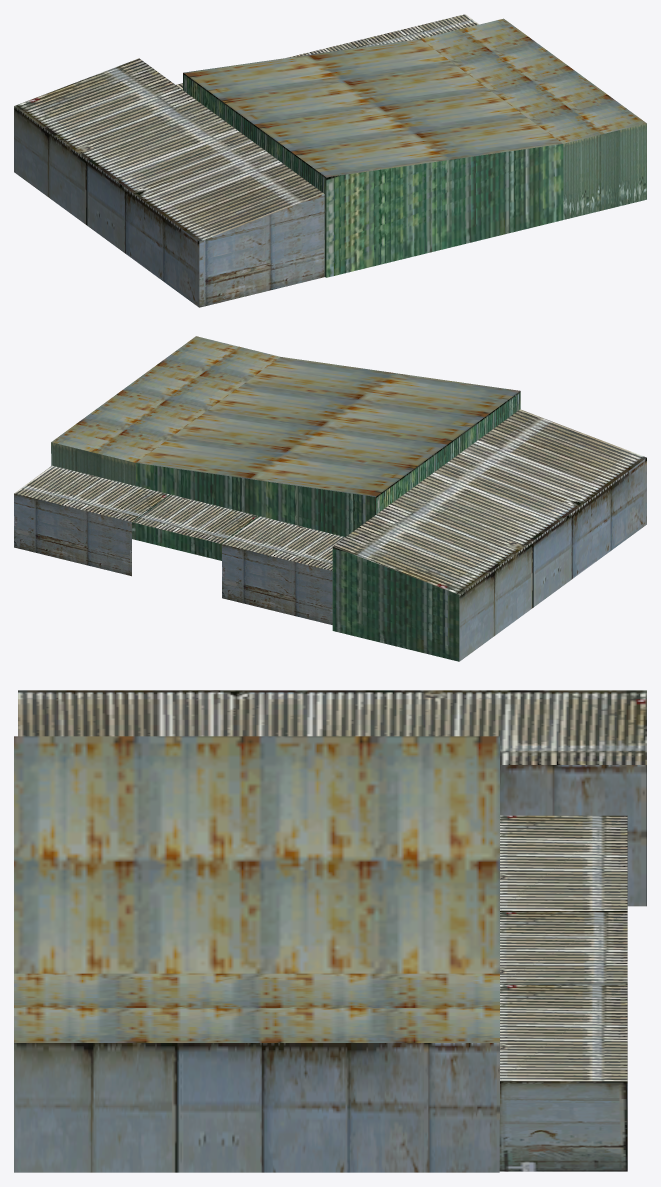
File: vakninHangar.dae
3 renders of one model, top to bottom at view 1: azimuth 30°, elevation 25°; view 2: azimuth 150°, elevation 25°; view 3: azimuth 270°, elevation 25°, orthographic. The views are drawn at different scales.
Visible parts, largest first — view 1: skpAB40 (×3); view 2: skpAB40 (×5); view 3: skpAB40 (×5).
Boxes of the visible parts, x1,y1,x2,y2 form: skpAB40 (×3): (14, 14, 646, 307); skpAB40 (×5): (14, 336, 646, 661); skpAB40 (×5): (14, 690, 646, 1172).
Size of the model in its own units: 1206 by 872 by 259.
Materials: 1 (1 with a texture image).
